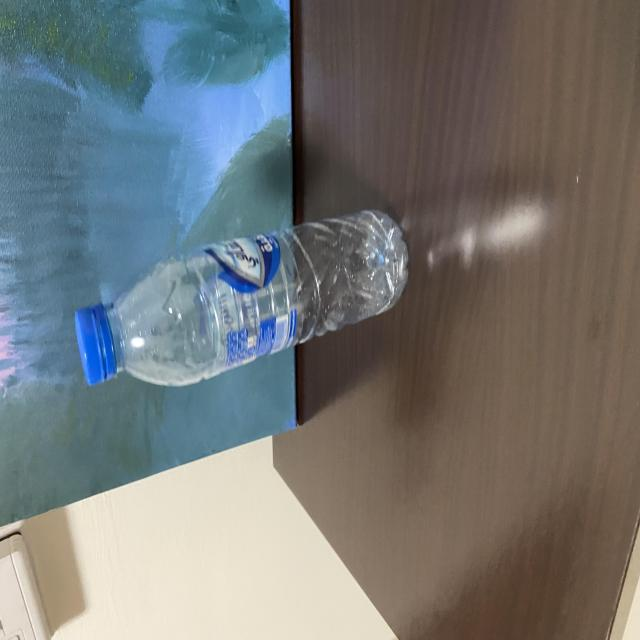bottle: (66, 206, 416, 388)
